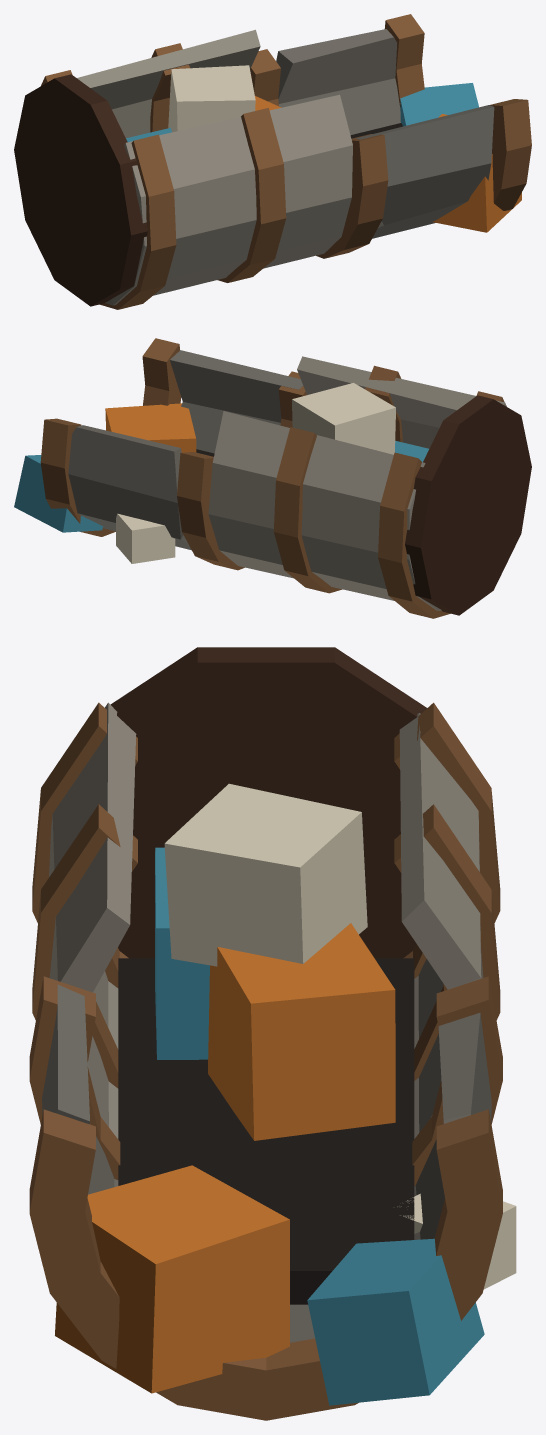
File: cargo_pod.glb
3 views of the same model, one above another, from view 1: azimuth 30°, elevation 25°; view 2: azimuth 150°, elevation 25°; view 3: azimuth 270°, elevation 25° (orthographic). The views are drawn at different scales.
Visible parts, largest first — view 1: cargo_pod; view 2: cargo_pod; view 3: cargo_pod.
Boxes of the visible parts, x1,y1,x2,y2 form: cargo_pod: (14, 14, 531, 309); cargo_pod: (14, 338, 531, 618); cargo_pod: (29, 647, 516, 1420).
Size of the model in its own units: 5.26 by 2.42 by 2.63.
